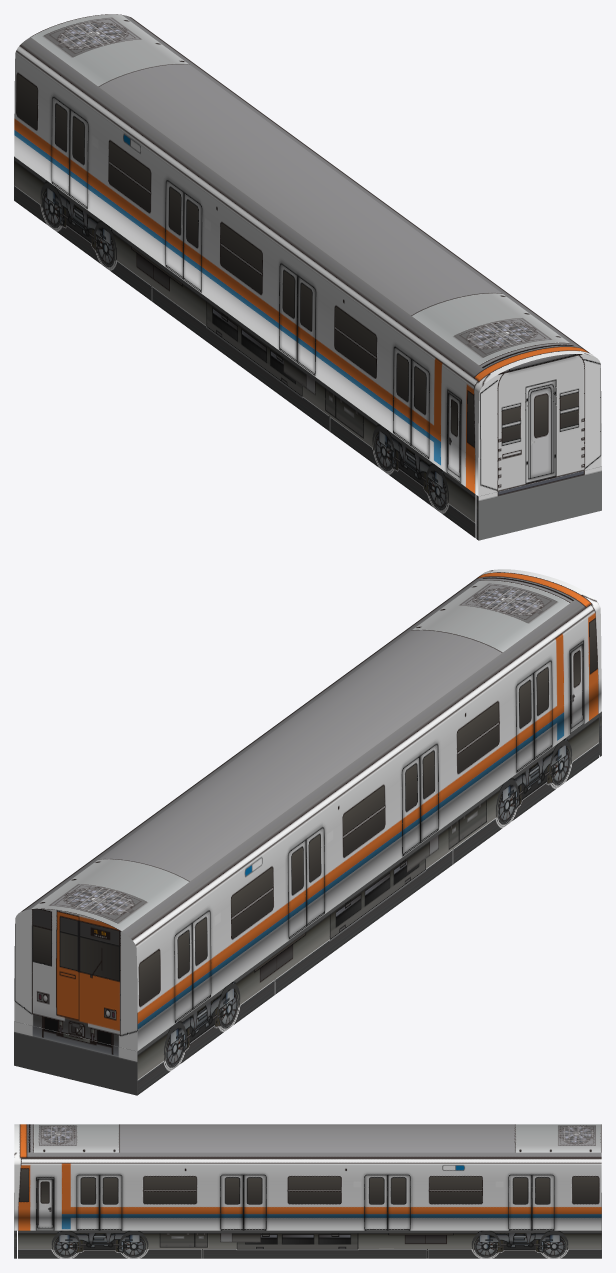
The model's file is car6.glb.
3 views of the same model, one above another, from view 1: azimuth 30°, elevation 25°; view 2: azimuth 150°, elevation 25°; view 3: azimuth 270°, elevation 25° (orthographic). The views are drawn at different scales.
Visible parts, largest first — view 1: kintetsu-7020-car6; view 2: kintetsu-7020-car6; view 3: kintetsu-7020-car6.
Boxes of the visible parts, box(x1,y1,x2,y2) form: kintetsu-7020-car6: box(14, 14, 601, 540); kintetsu-7020-car6: box(14, 569, 601, 1095); kintetsu-7020-car6: box(14, 1124, 601, 1258).
Size of the model in its own units: 2.9 by 3.74 by 18.93.
Materials: 9 (8 with a texture image).
